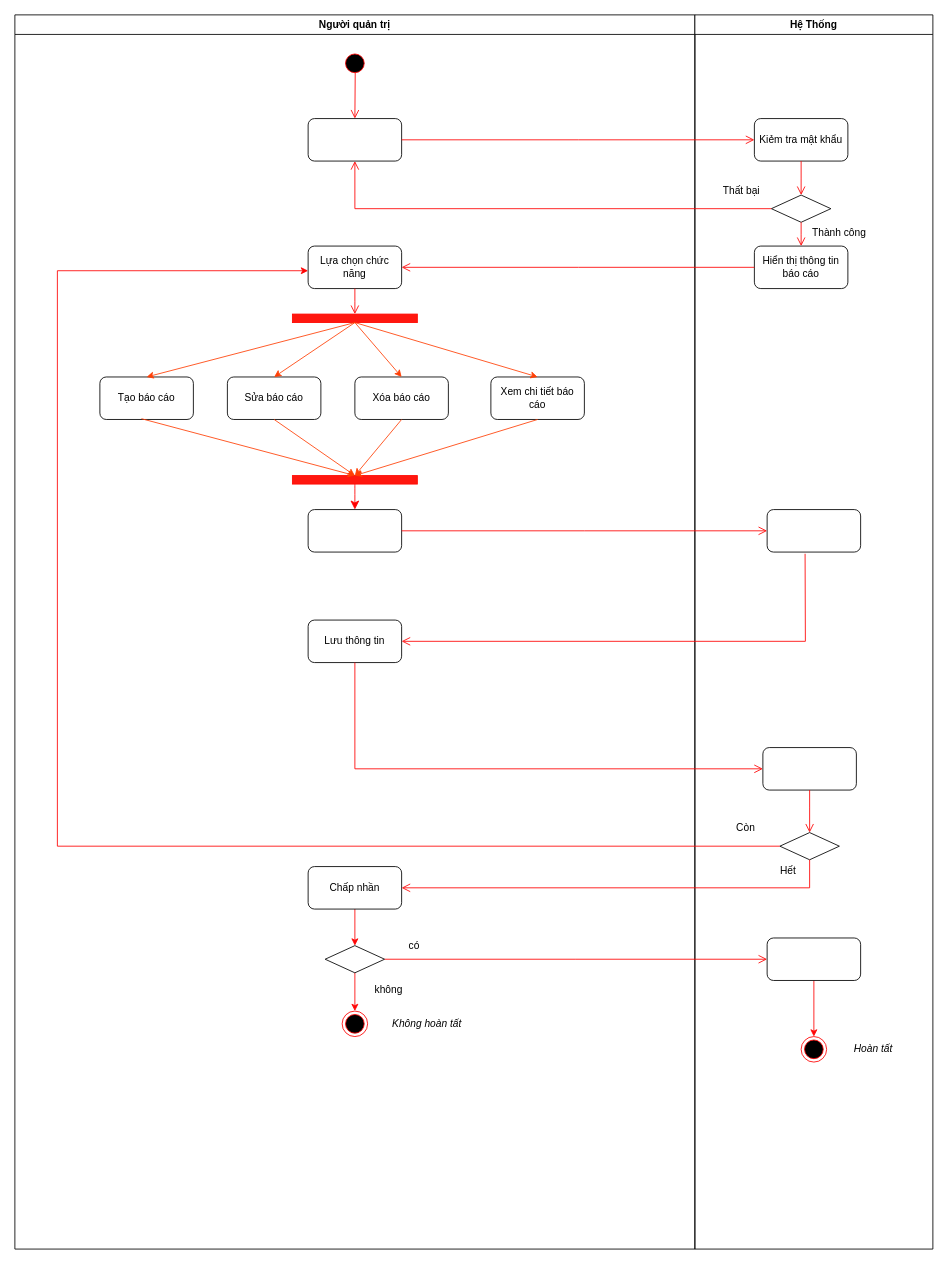
This 948x1264 diagram has some shape labels left out. The shapes that lost their labels are listed below. From the top down, each one's box as (x1, y1, x2, y2) in pixels, then its label:
(307, 118, 402, 161): Đăng nhập
(307, 509, 402, 552): Nhập thông tin báo cáo
(766, 509, 861, 552): Cung cấp thông tin phản hồi
(762, 747, 856, 790): Hiển thị thông tin phòng vừa cập nhật
(766, 937, 861, 980): Thông báo thành công
